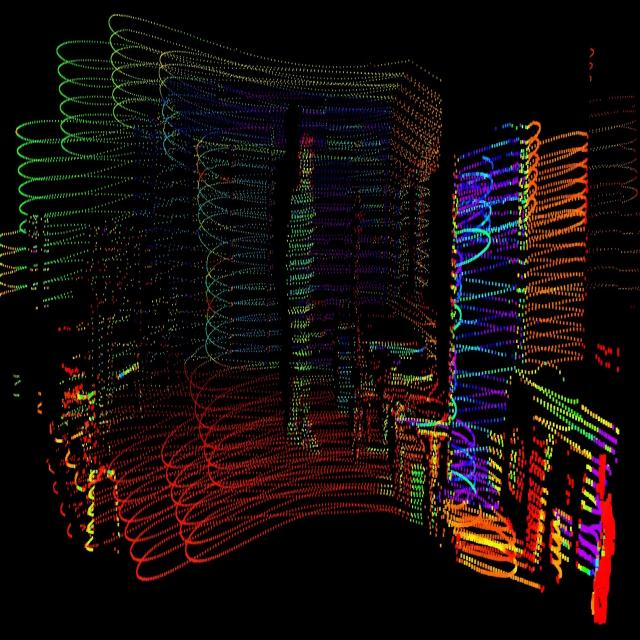human: (277, 122, 331, 464)
